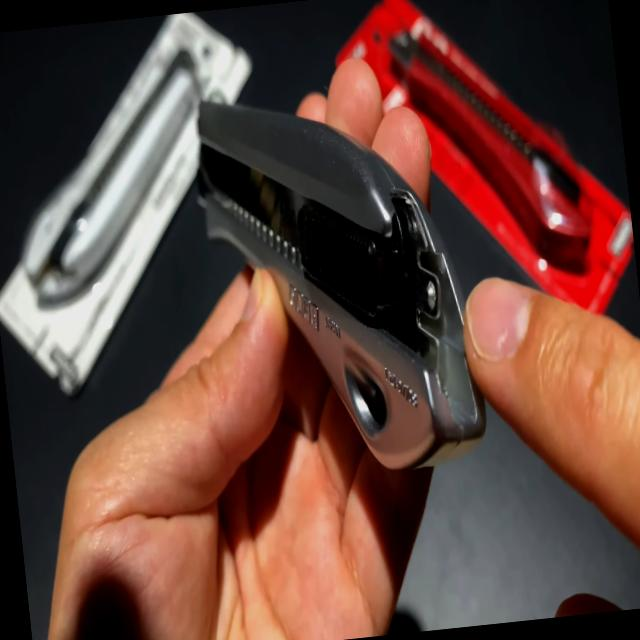cutter: (32, 29, 640, 640)
